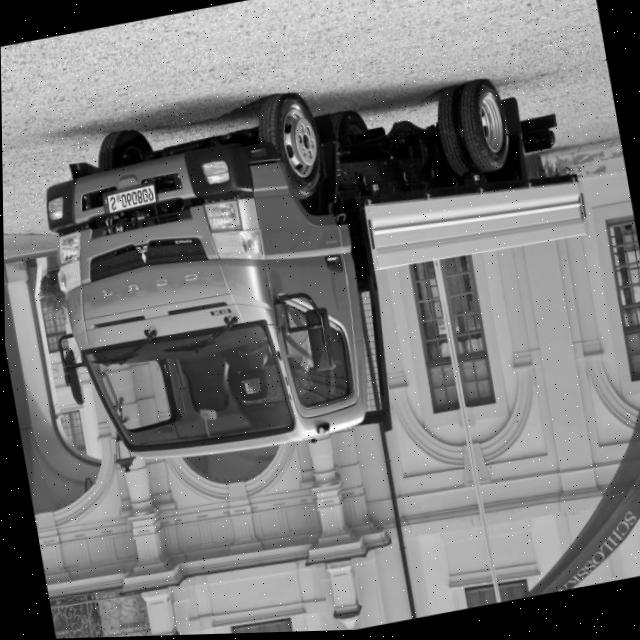truck: (21, 89, 412, 512)
